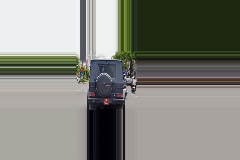plate: (102, 97, 110, 106)
